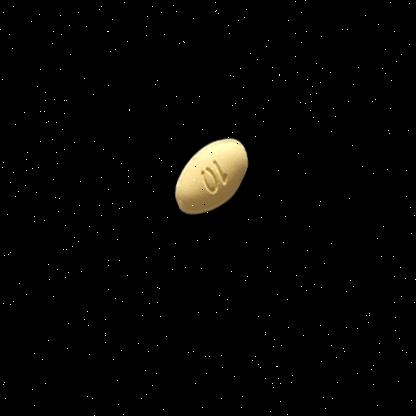tovast10: (158, 125, 257, 233)
